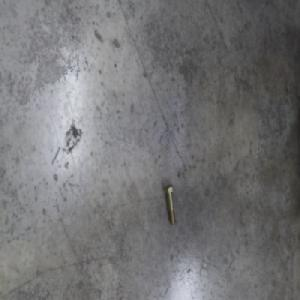Bolt: (164, 183, 177, 227)
